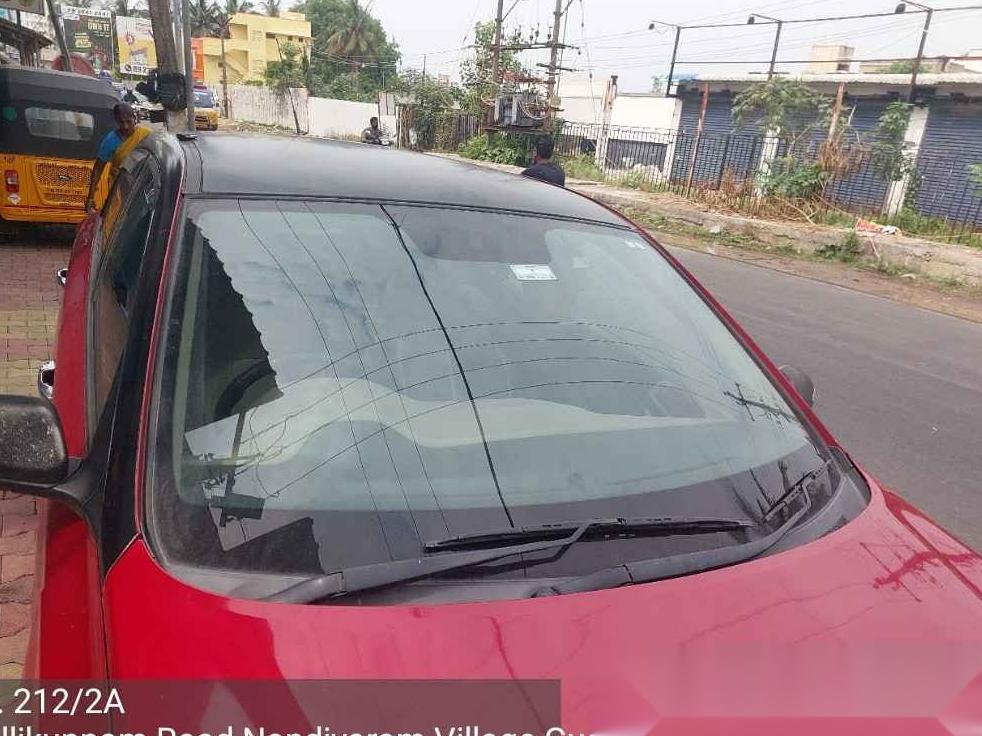FastTag: (490, 242, 577, 301)
